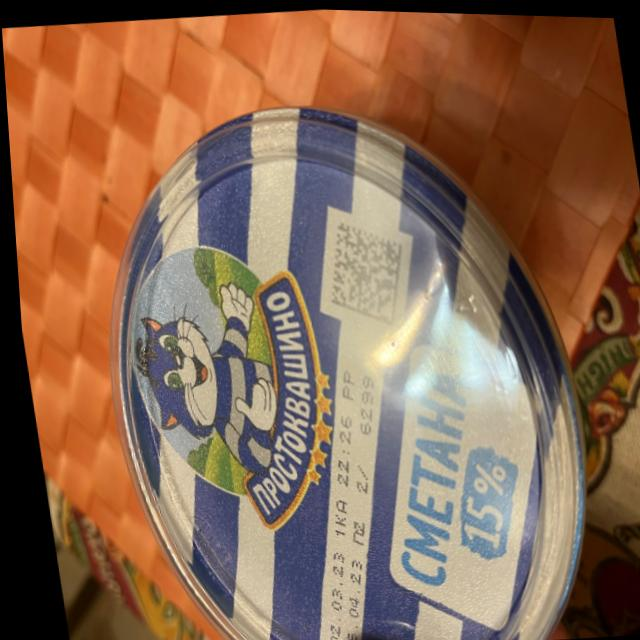datamatrix: (315, 213, 410, 330)
